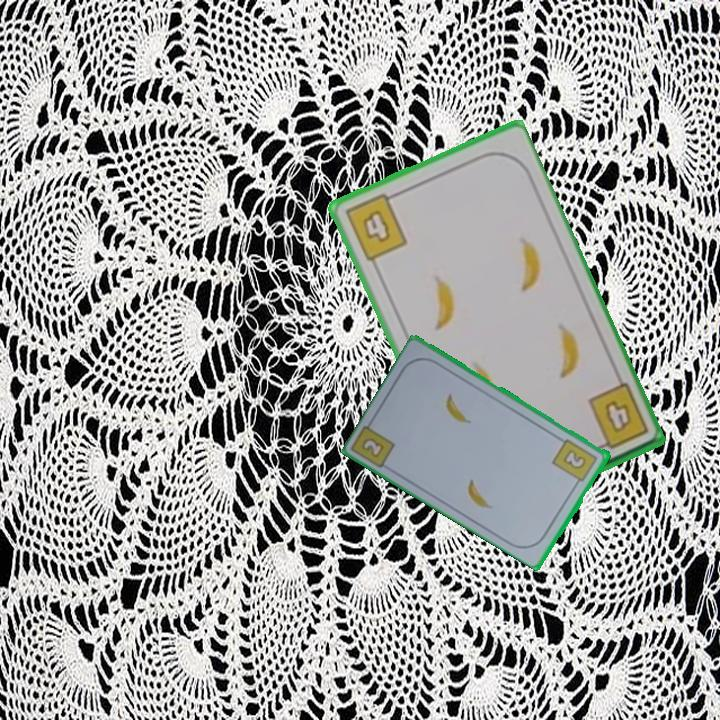2b: (549, 435, 601, 489), (358, 434, 387, 461)
4b: (341, 188, 410, 264), (584, 380, 651, 455)
